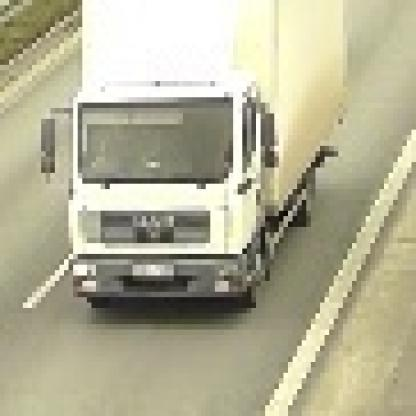truck: (37, 1, 344, 320)
